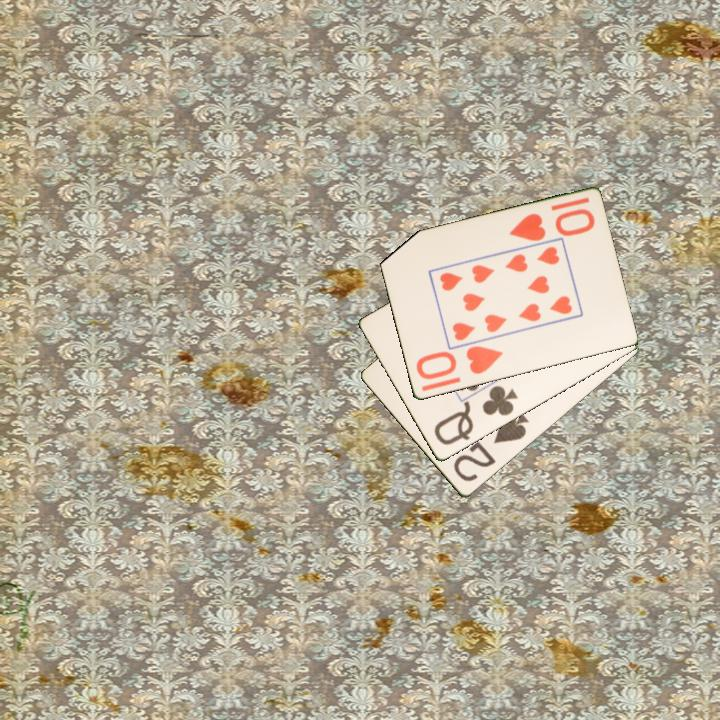10h: (412, 342, 506, 383), (505, 205, 598, 244)
2s: (450, 409, 532, 485)
Qc: (430, 382, 521, 449)
